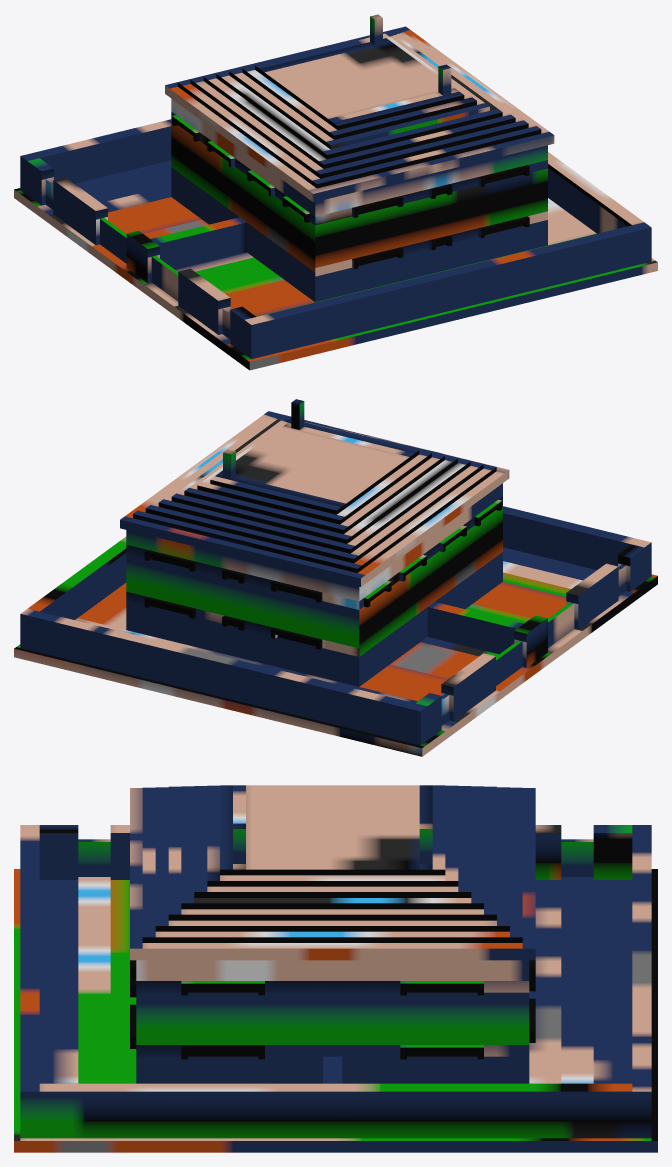
The model's file is Casa5.fbx.
The picture shows the model from 3 angles, top to bottom: view 1: azimuth 30°, elevation 25°; view 2: azimuth 150°, elevation 25°; view 3: azimuth 270°, elevation 25°; orthographic projection. The views are drawn at different scales.
Visible parts, largest first — view 1: Casa1; view 2: Casa1; view 3: Casa1.
Boxes of the visible parts, x1=… form: Casa1: x1=14, y1=14, x2=657, y2=370; Casa1: x1=14, y1=399, x2=657, y2=756; Casa1: x1=14, y1=785, x2=657, y2=1152.
Bounding box in the file's own units: 100 × 41 × 100.
